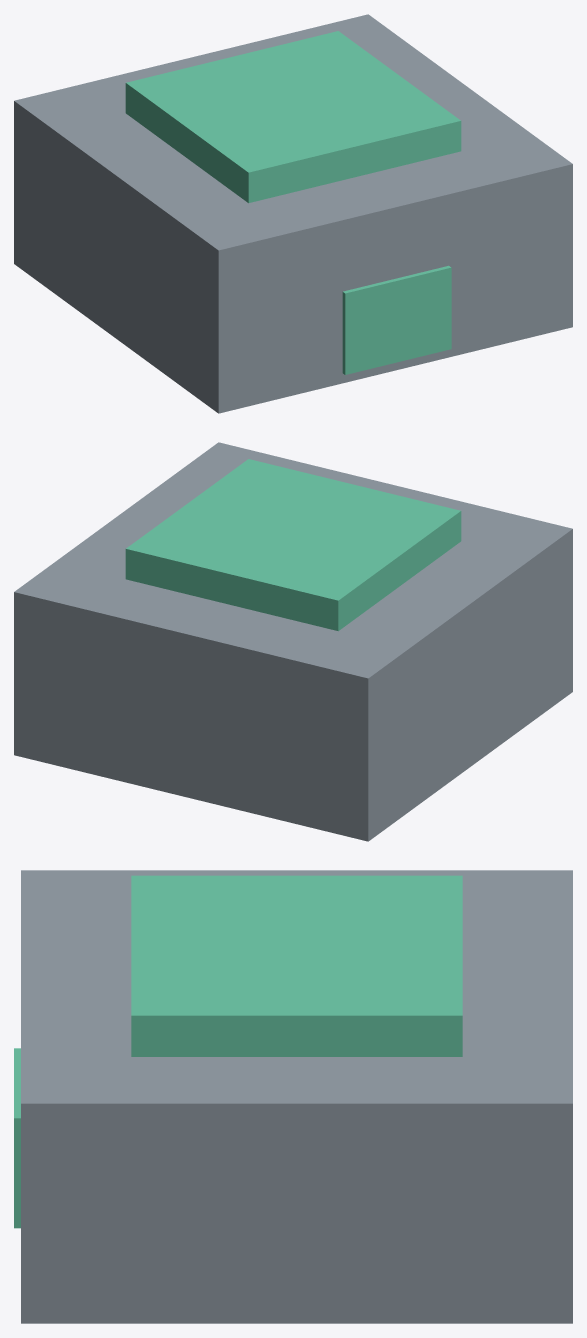
The model's file is CO_Refinery_LOD0.glb.
The picture shows the model from 3 angles, top to bottom: view 1: azimuth 30°, elevation 25°; view 2: azimuth 150°, elevation 25°; view 3: azimuth 270°, elevation 25°; orthographic projection. The views are drawn at different scales.
Visible parts, largest first — view 1: EntranceGate; view 2: EntranceGate; view 3: EntranceGate.
Part boxes in pixels (x1=…): EntranceGate: x1=14, y1=14, x2=572, y2=413; EntranceGate: x1=14, y1=442, x2=572, y2=841; EntranceGate: x1=14, y1=870, x2=572, y2=1323.
Size of the model in its own units: 800 by 418 by 810.
